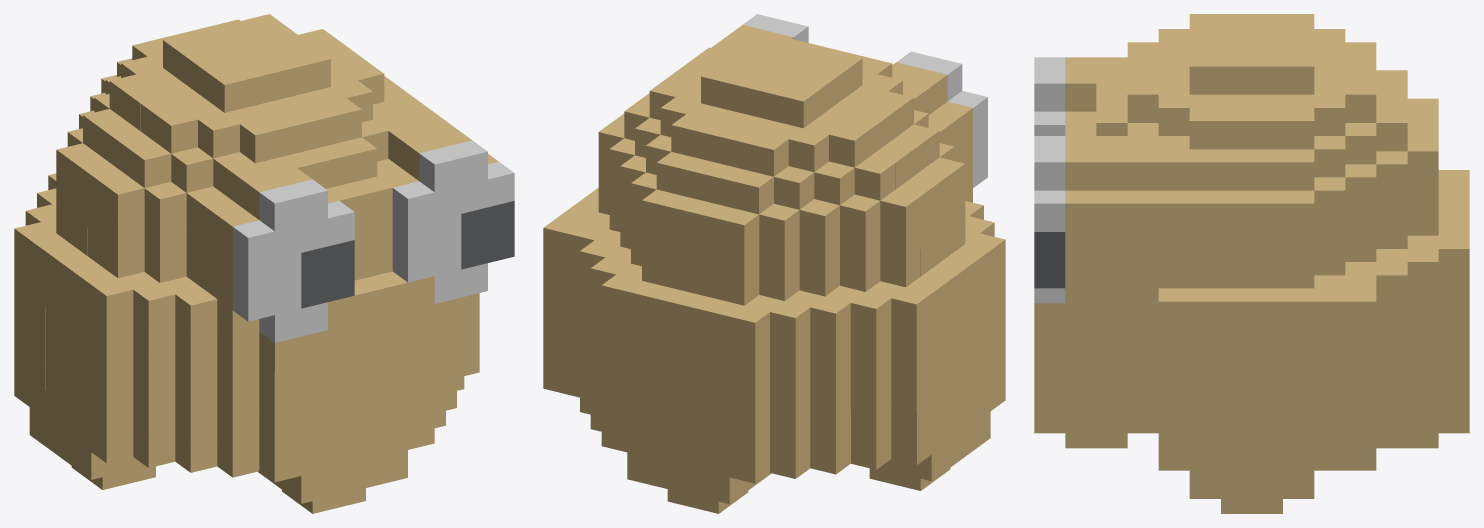
Rendered from ghost_orange.glb.
3 renders of one model, left to right at view 1: azimuth 30°, elevation 25°; view 2: azimuth 150°, elevation 25°; view 3: azimuth 270°, elevation 25°, orthographic. The views are drawn at different scales.
Parts seen in each view (by area): view 1: Mesh_Mesh_head_geo.001_lambert2SG.001; view 2: Mesh_Mesh_head_geo.001_lambert2SG.001; view 3: Mesh_Mesh_head_geo.001_lambert2SG.001.
Boxes of the visible parts, left/top/right/bottom form: Mesh_Mesh_head_geo.001_lambert2SG.001: left=14, top=14, right=514, bottom=513; Mesh_Mesh_head_geo.001_lambert2SG.001: left=543, top=14, right=1005, bottom=513; Mesh_Mesh_head_geo.001_lambert2SG.001: left=1034, top=14, right=1469, bottom=513.
Bounding box in the file's own units: 0.07 × 0.07 × 0.07.
